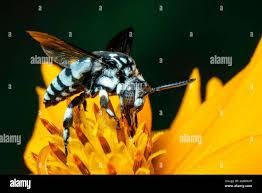Thyreus: (28, 21, 190, 147)
